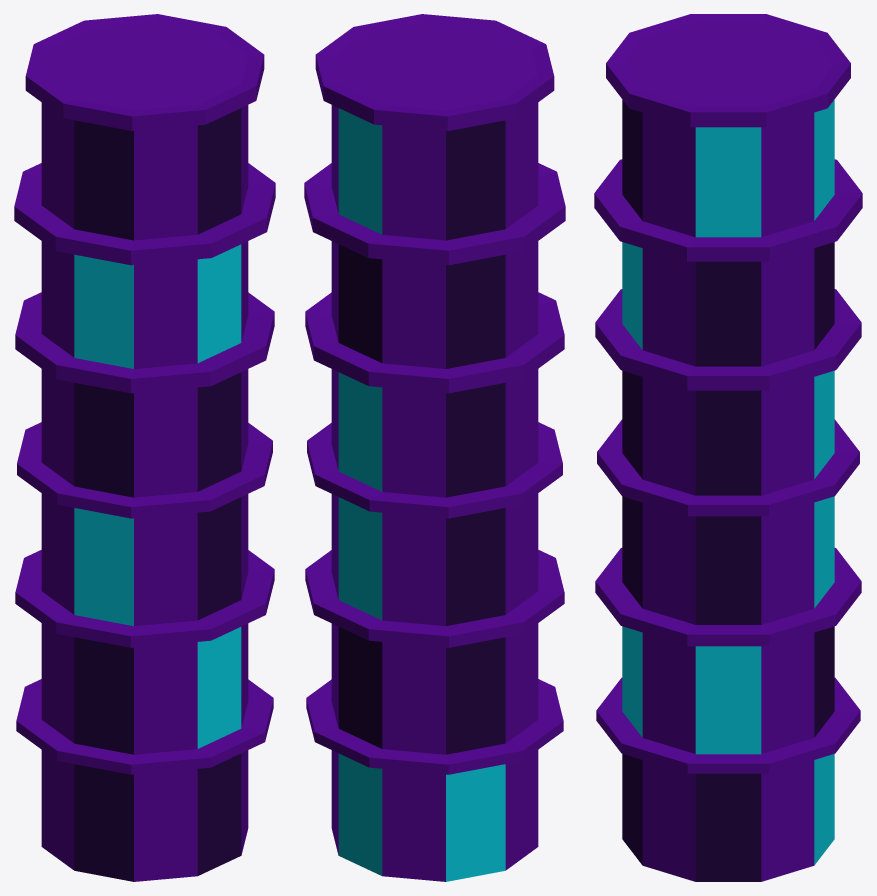
File: Morado Edificio 3.glb
3 renders of one model, left to right at view 1: azimuth 30°, elevation 25°; view 2: azimuth 150°, elevation 25°; view 3: azimuth 270°, elevation 25°, orthographic.
Parts seen in each view (by area): view 1: Cylinder.001; view 2: Cylinder.001; view 3: Cylinder.001.
Boxes of the visible parts, left/top/right/bottom form: Cylinder.001: left=14, top=14, right=275, bottom=881; Cylinder.001: left=304, top=14, right=565, bottom=881; Cylinder.001: left=594, top=14, right=862, bottom=881.
Size of the model in its own units: 23.9 by 80.14 by 25.13.
